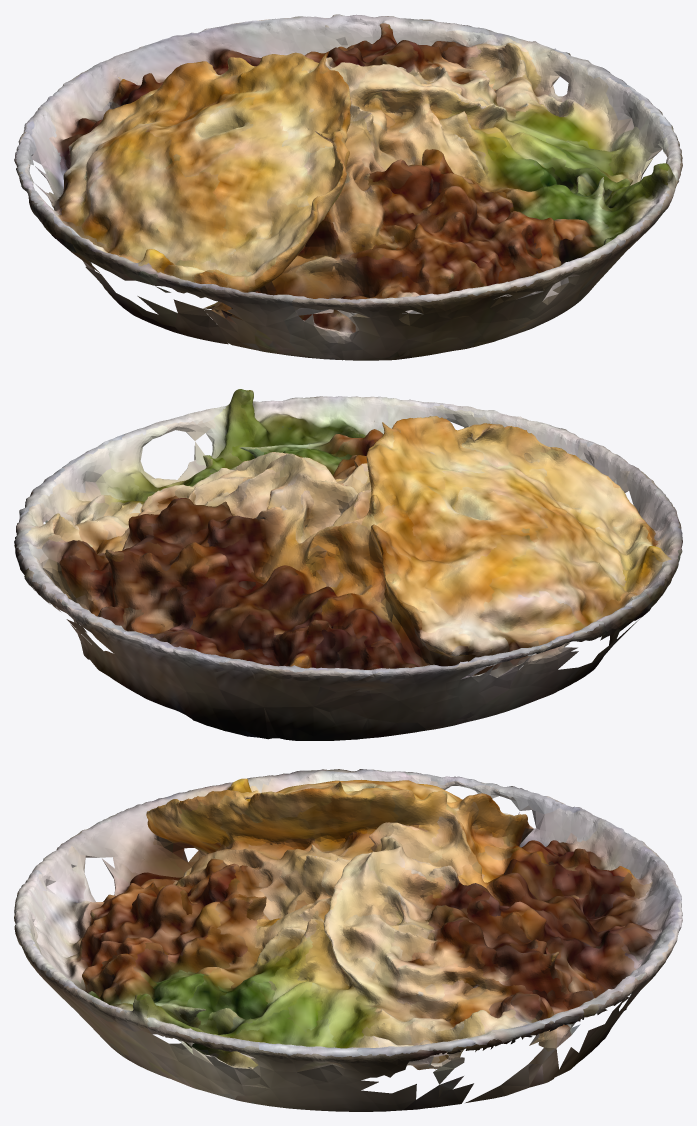
File: macarrao-molho-soja-android.glb
3 views of the same model, one above another, from view 1: azimuth 30°, elevation 25°; view 2: azimuth 150°, elevation 25°; view 3: azimuth 270°, elevation 25° (orthographic).
Visible parts, largest first — view 1: mesh_main_1, mesh_main_0; view 2: mesh_main_1, mesh_main_0; view 3: mesh_main_0, mesh_main_1.
Boxes of the visible parts, x1,y1,x2,y2 form: mesh_main_1: [14, 14, 682, 360]; mesh_main_0: [15, 14, 682, 360]; mesh_main_1: [17, 396, 682, 740]; mesh_main_0: [14, 389, 678, 737]; mesh_main_0: [14, 769, 663, 1103]; mesh_main_1: [14, 770, 682, 1111].
Bounding box in the file's own units: 0.2194 × 0.074 × 0.218.
1 material, 1 textured.
